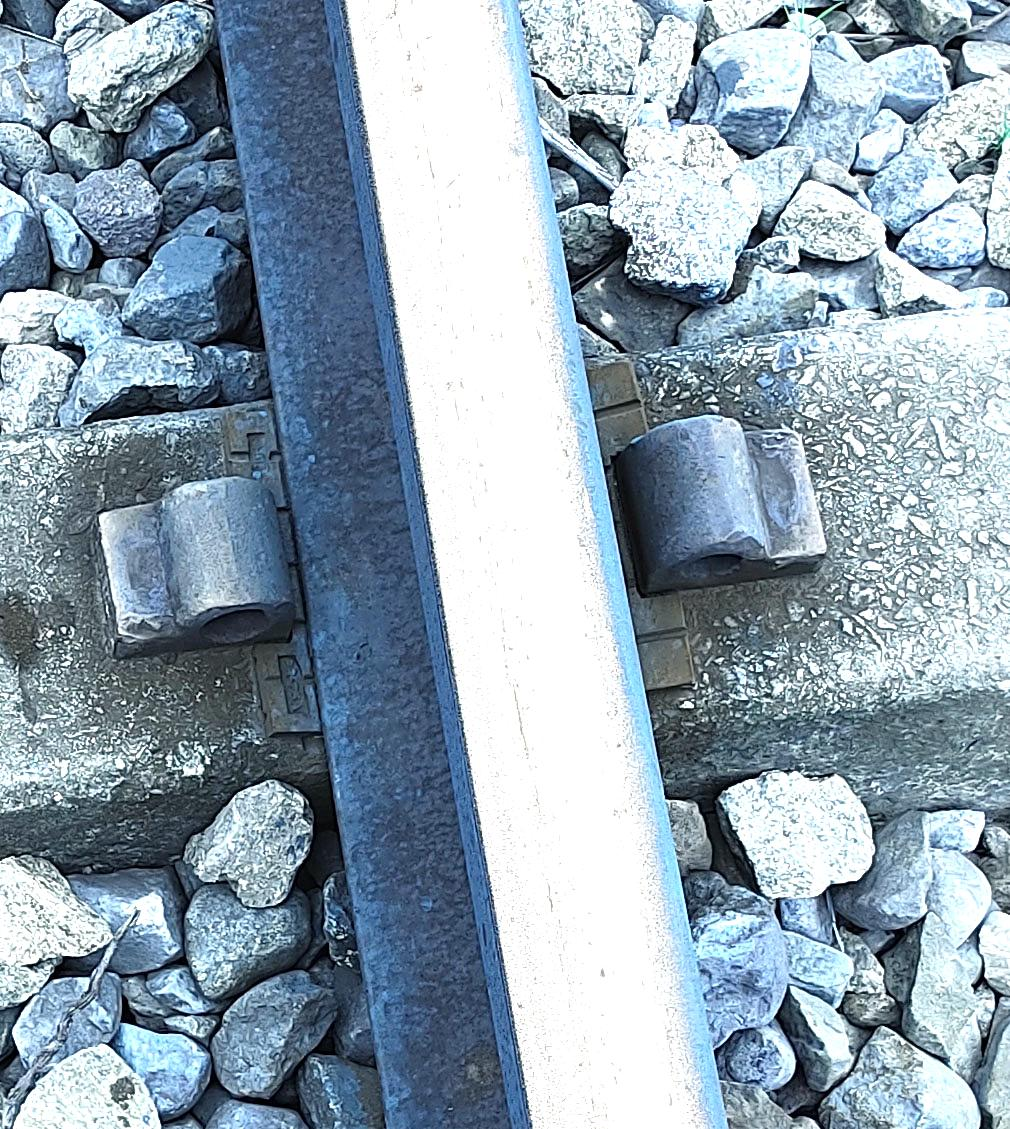loss: (90, 425, 327, 698), (623, 397, 877, 606)
